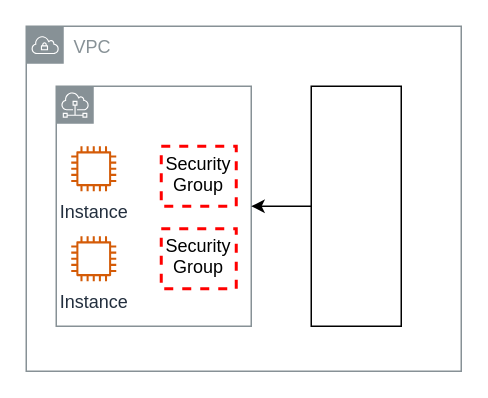
This 488x398 diagram has some shape labels left out. Each missing label, with the box of its shape:
Network ACL: (310, 85, 401, 326)
Subnet: (55, 85, 251, 326)
